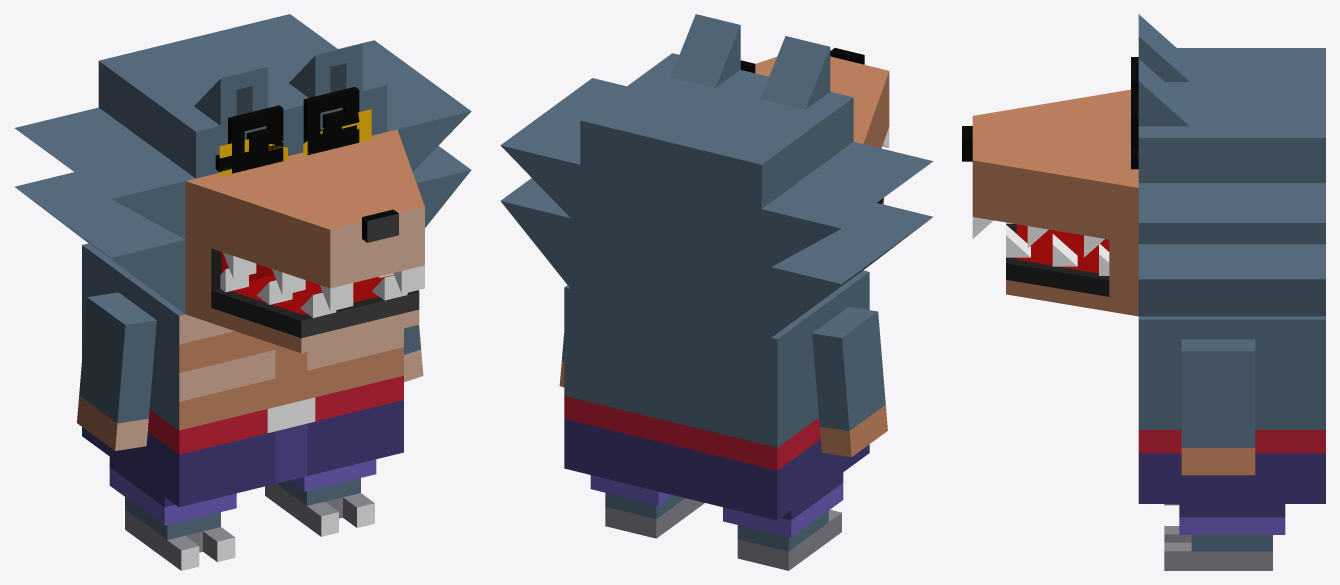
3 views of the same model, side by side, from view 1: azimuth 30°, elevation 25°; view 2: azimuth 150°, elevation 25°; view 3: azimuth 270°, elevation 25° (orthographic). The views are drawn at different scales.
Parts seen in each view (by area): view 1: Ch_44_Head, Ch_44, Ch_44_Hand_L, Ch_44_Leg_L, Ch_44_Leg_R, Ch_44_Eye_03_R, Ch_44_Eye_03_L, Ch_44_Eye_01, Ch_44_Hand_R, Ch_44_Eye_02; view 2: Ch_44_Head, Ch_44, Ch_44_Hand_L, Ch_44_Leg_L, Ch_44_Leg_R; view 3: Ch_44_Head, Ch_44, Ch_44_Hand_R, Ch_44_Leg_R.
Boxes of the visible parts, box(x1,y1,x2,y2) form: Ch_44_Head: box(14, 14, 471, 353); Ch_44: box(82, 243, 403, 507); Ch_44_Hand_L: box(77, 292, 156, 450); Ch_44_Leg_L: box(109, 457, 236, 570); Ch_44_Leg_R: box(265, 459, 376, 536); Ch_44_Eye_03_R: box(303, 87, 359, 154); Ch_44_Eye_03_L: box(228, 105, 283, 173); Ch_44_Eye_01: box(219, 109, 371, 176); Ch_44_Hand_R: box(404, 325, 423, 382); Ch_44_Eye_02: box(215, 125, 356, 171); Ch_44_Head: box(500, 14, 933, 337); Ch_44: box(564, 270, 869, 520); Ch_44_Hand_L: box(812, 307, 887, 457); Ch_44_Leg_L: box(723, 472, 843, 570); Ch_44_Leg_R: box(590, 475, 704, 538); Ch_44_Head: box(962, 14, 1325, 316); Ch_44: box(1138, 316, 1325, 503); Ch_44_Hand_R: box(1181, 339, 1255, 475); Ch_44_Leg_R: box(1164, 504, 1285, 570).
Bounding box in the file's own units: 9.34 × 12.29 × 8.48.
